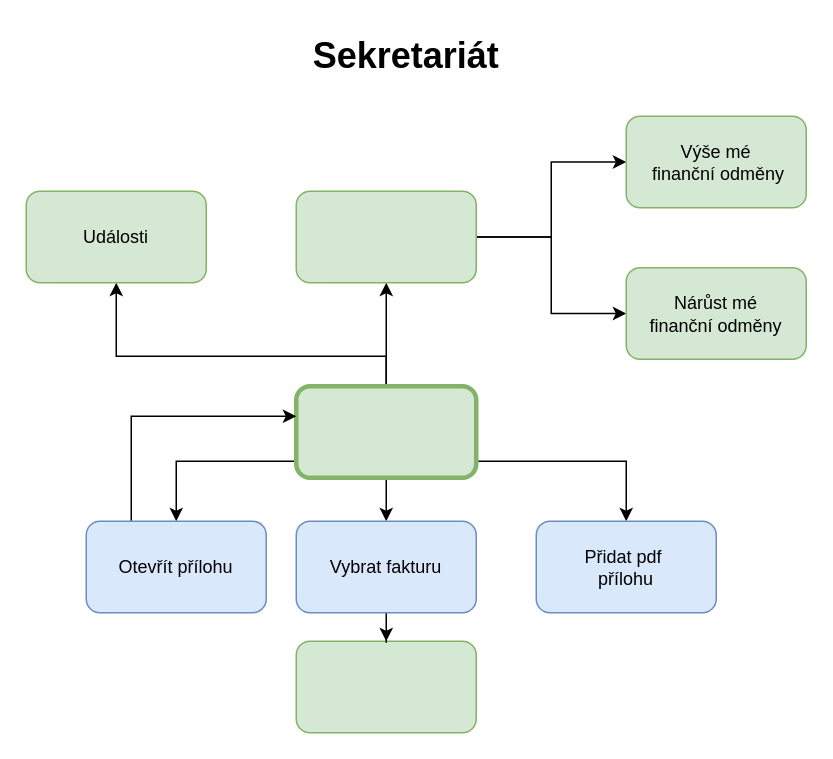
This 833x759 diagram has some shape labels left out. The box of each missing label's shape, as (x1, y1, x2, y2) in pixels:
Můj profil: (295, 190, 476, 283)
Přehled mých faktur: (293, 383, 478, 479)
Výkazy navázané na vybranou fakturu: (295, 640, 476, 733)
